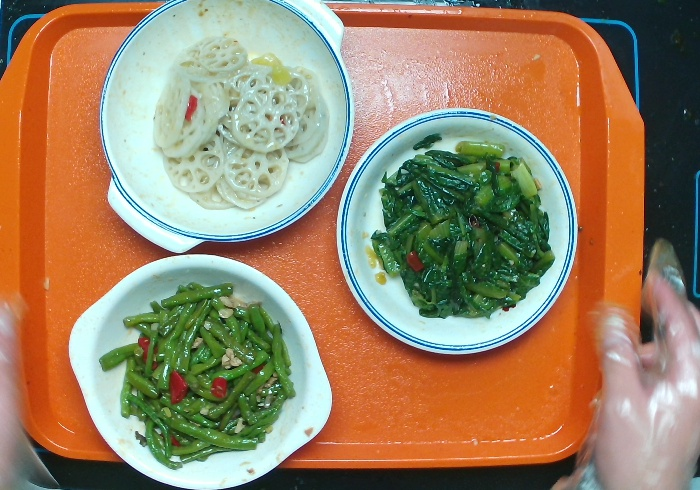HZYJPL-Dai_Er_Bai_Yuan_Wan: (64, 251, 335, 490)
HZYJPL-Lan_Bian_Dai_Er_Wan: (93, 1, 359, 258)
HZYJPL-Lan_Bian_Yuan_Die: (333, 105, 581, 360)
